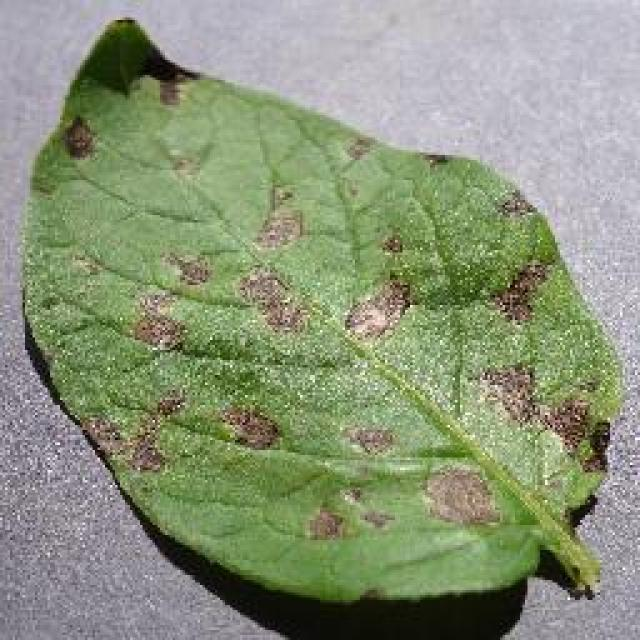early_blight: (15, 12, 627, 618)
